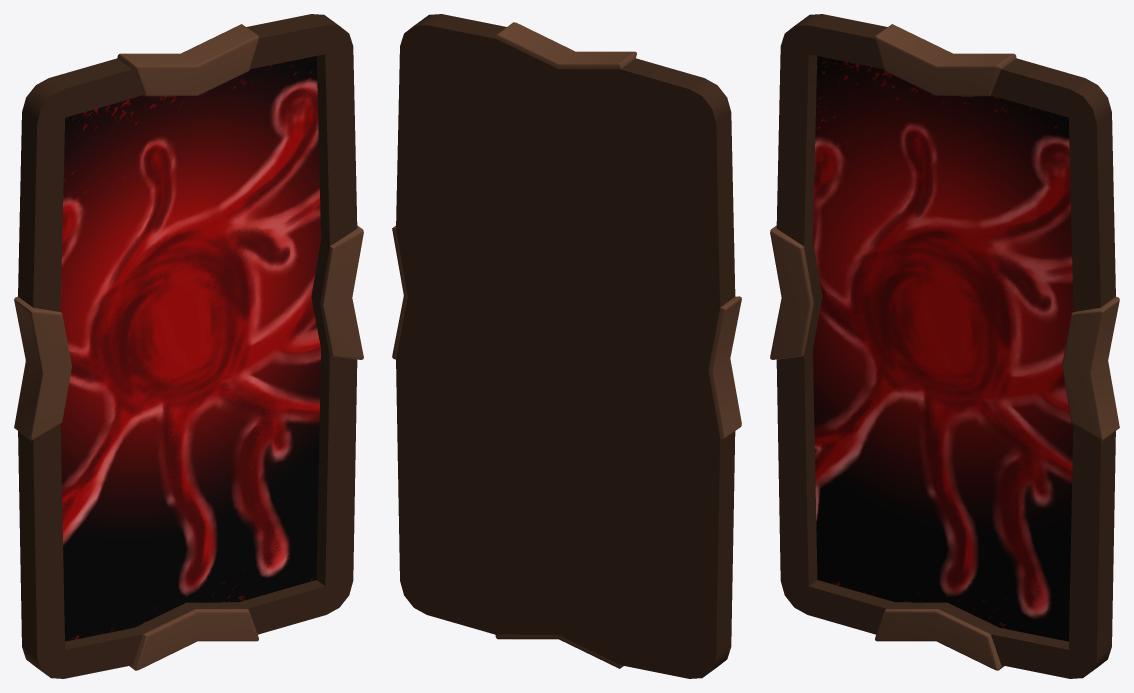
The model's file is SM_CadreRectangle.fbx.
3 views of the same model, side by side, from view 1: azimuth 30°, elevation 25°; view 2: azimuth 150°, elevation 25°; view 3: azimuth 330°, elevation 25° (orthographic).
Visible parts, largest first — view 1: SM_CadreCarre; view 2: SM_CadreCarre; view 3: SM_CadreCarre.
Boxes of the visible parts, left/top/right/bottom form: SM_CadreCarre: left=14, top=14, right=363, bottom=678; SM_CadreCarre: left=392, top=14, right=741, bottom=678; SM_CadreCarre: left=770, top=14, right=1119, bottom=678.
Size of the model in its own units: 66.8 by 116 by 6.26.
Materials: 3 (1 with a texture image).
